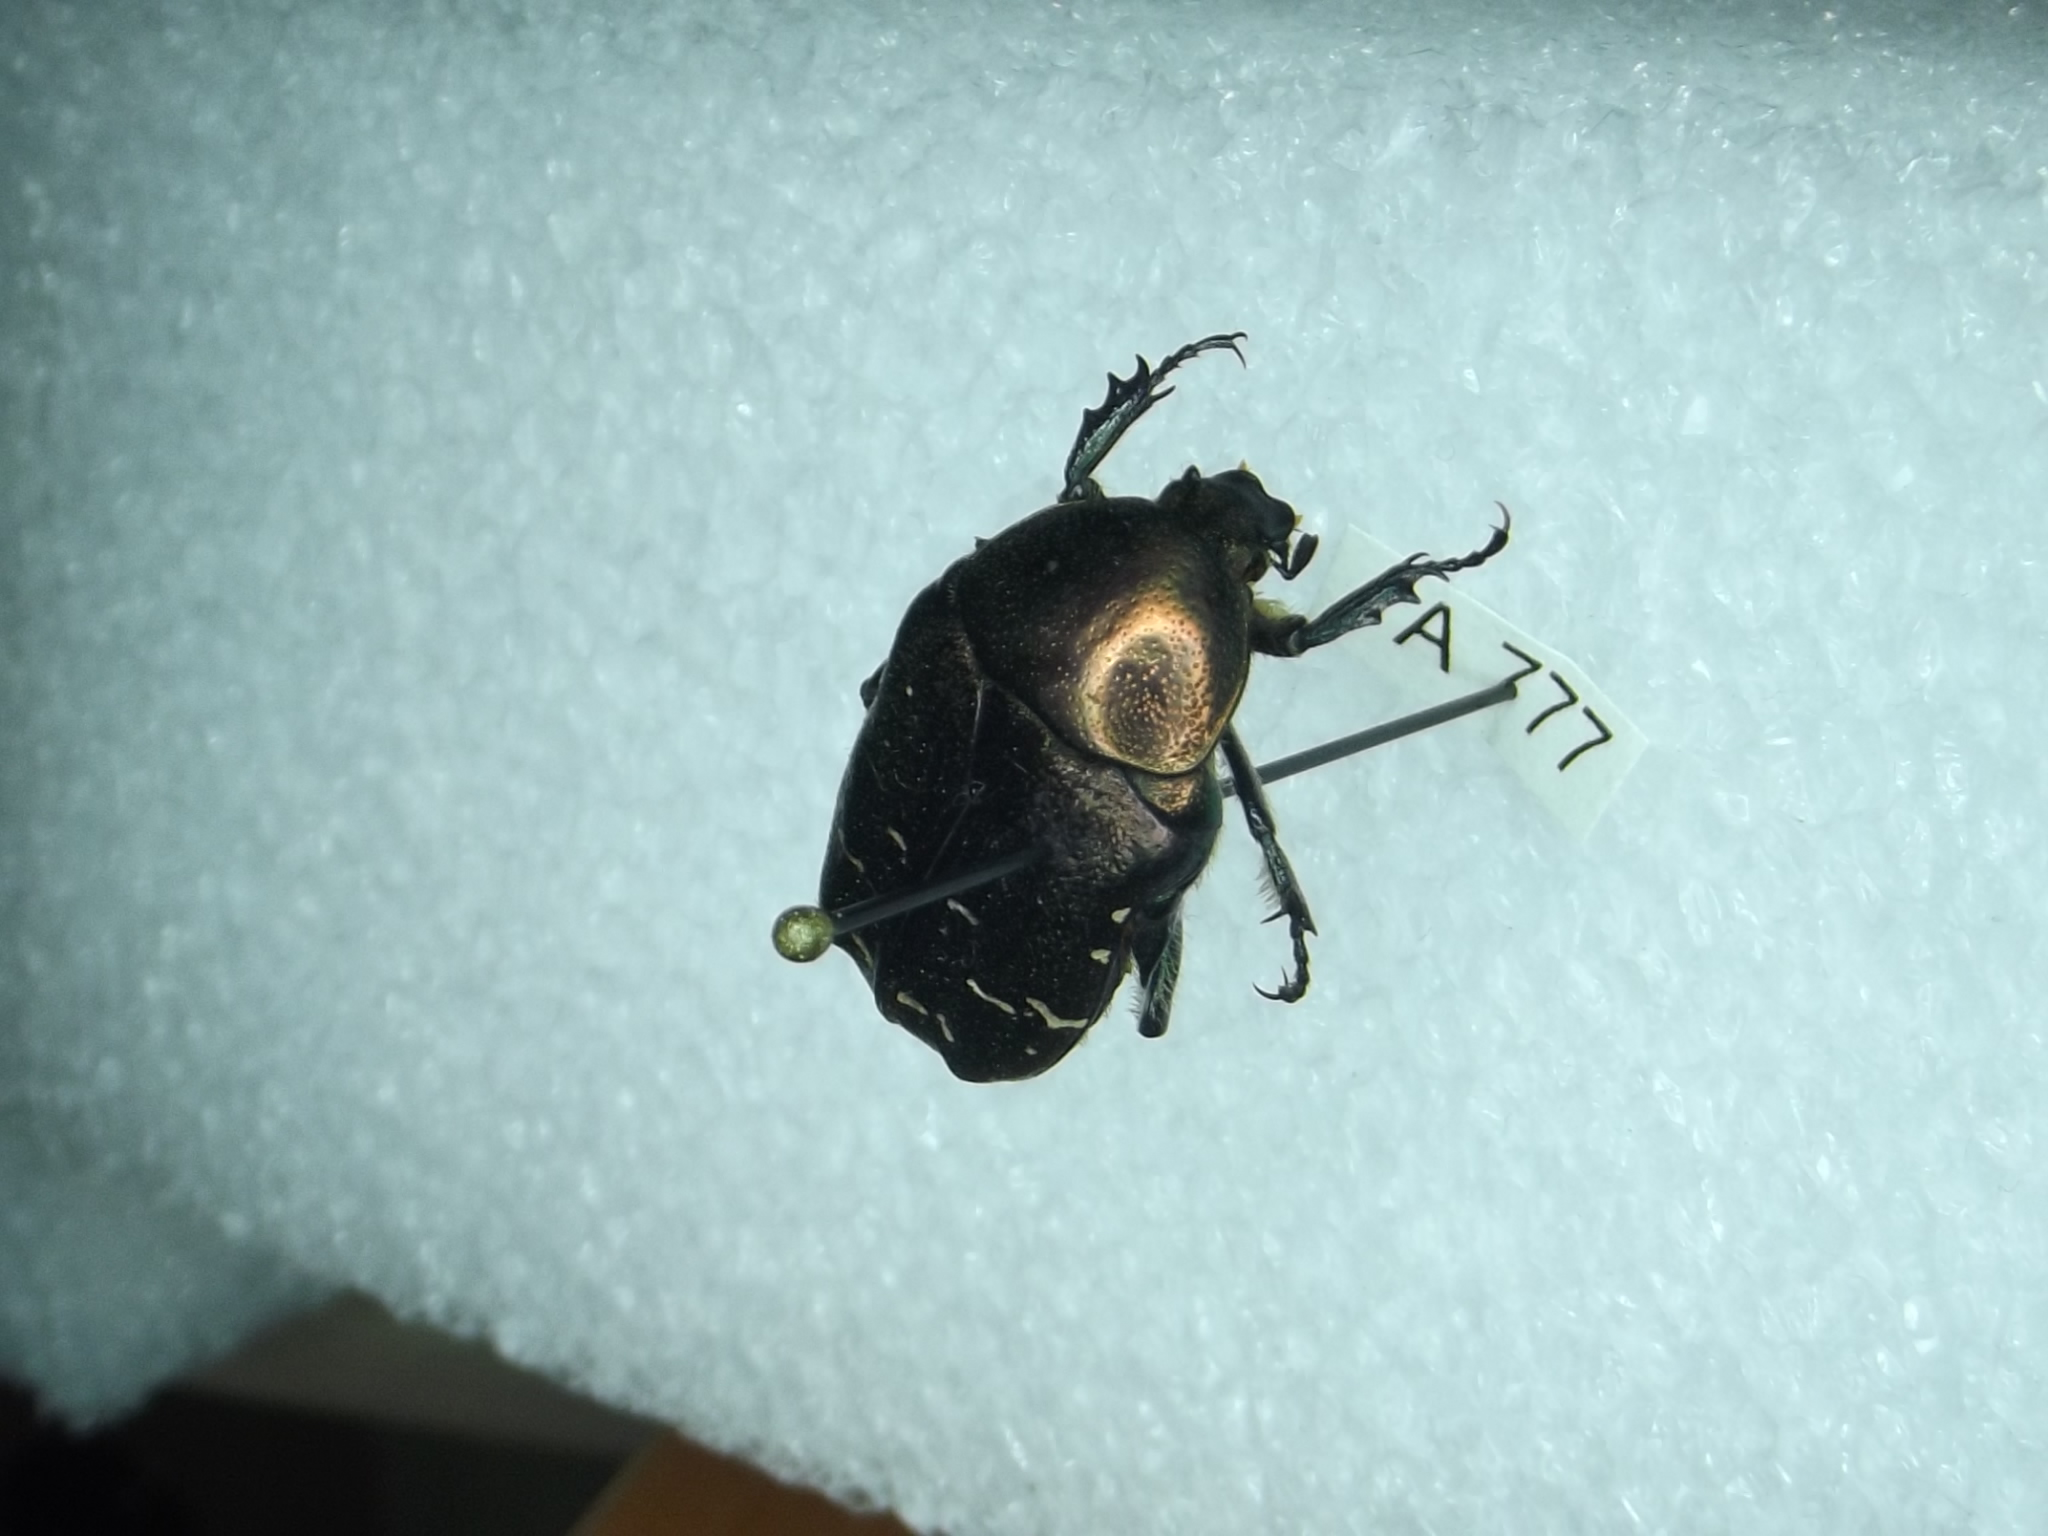Cetonia_aurata: (763, 303, 1526, 1146)
